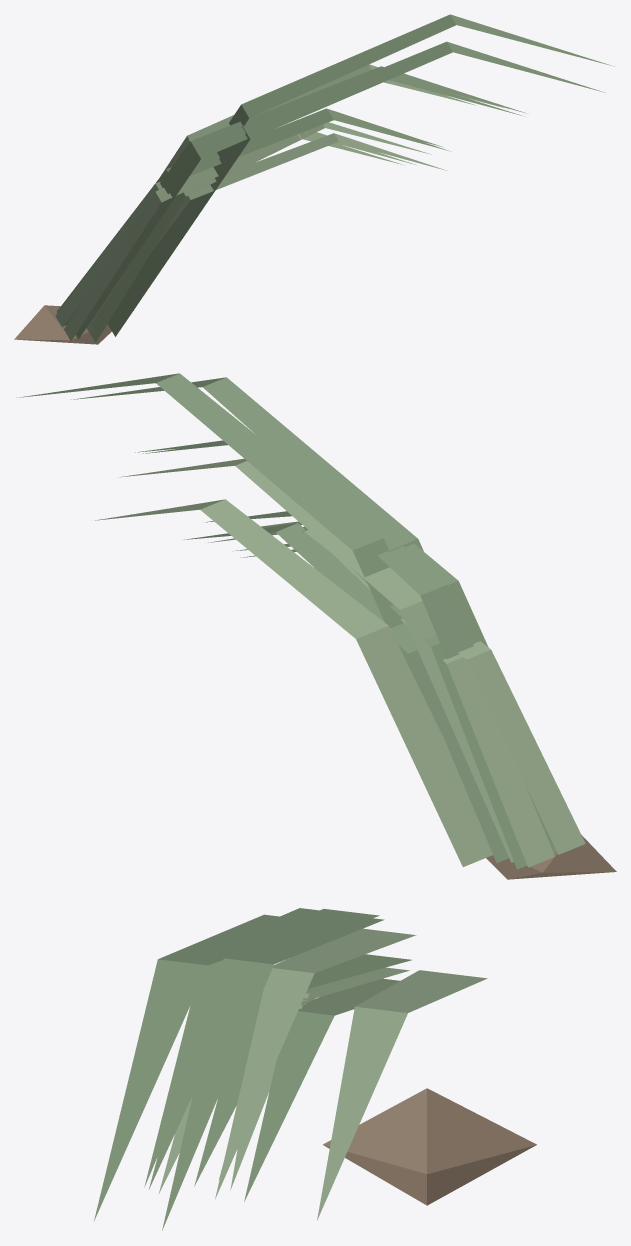
The model's file is shui.kucao@flowering__autumn.glb.
The picture shows the model from 3 angles, top to bottom: view 1: azimuth 30°, elevation 25°; view 2: azimuth 150°, elevation 25°; view 3: azimuth 270°, elevation 25°; orthographic projection. The views are drawn at different scales.
Visible parts, largest first — view 1: shui.kucao@flowering__autumn; view 2: shui.kucao@flowering__autumn; view 3: shui.kucao@flowering__autumn.
Boxes of the visible parts, x1,y1,x2,y2 form: shui.kucao@flowering__autumn: [14, 14, 614, 344]; shui.kucao@flowering__autumn: [17, 373, 616, 879]; shui.kucao@flowering__autumn: [94, 908, 536, 1230].
Size of the model in its own units: 1.33 by 0.6411 by 0.4758.
